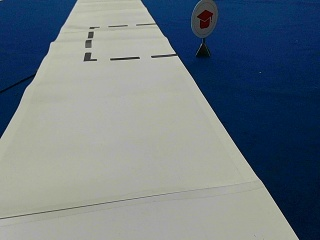school: (189, 1, 218, 37)
